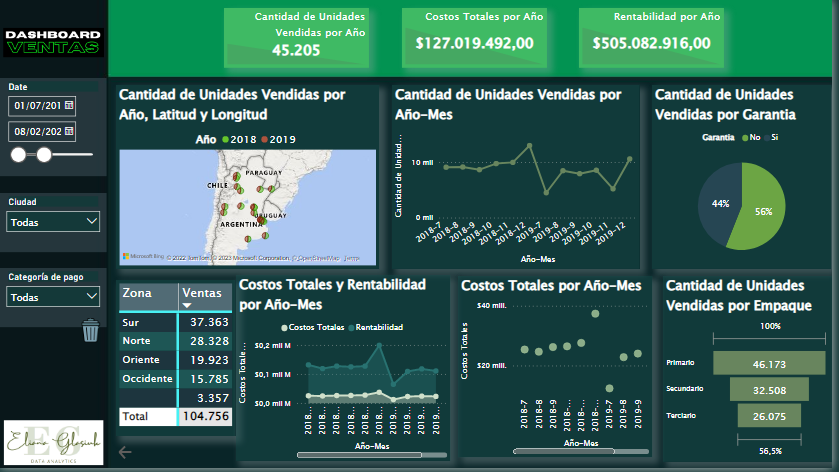

This screenshot's page, from the dashboard's own definition file:
{"tool":"powerbi","page":{"name":"Página 1","canvas":[1280,720],"ordinal":1},"visuals":[{"type":"slicer","fields":{"Values":["Territorio.Ciudad"]},"box":[0,297.1,164.3,91.4],"z":0},{"type":"slicer","fields":{"Values":["MediodePago.Categoría de pago"]},"box":[0,412.9,164.3,91.4],"z":1000},{"type":"kpi","fields":{"Indicator":["Sum(Ventas.Cantidad de Unidades Vendidas)"],"TrendLine":["Calendario.Año"]},"box":[344.4,12.8,222.5,92.1],"z":2000},{"type":"actionButton","box":[178.6,681.4,250,28.6],"z":3000},{"type":"lineChart","fields":{"Y":["Sum(Ventas.Cantidad de Unidades Vendidas)"],"Category":["Calendario.Año-Mes"]},"box":[603.8,130.4,381.3,283.5],"z":4000},{"type":"pivotTable","fields":{"Rows":["Vendedor.Zona"],"Values":["Sum(Ventas.Cantidad de Unidades Vendidas)"]},"box":[178.6,430.9,184.3,239.5],"z":5000},{"type":"kpi","fields":{"Indicator":["Sum(Ventas.Costos Totales)"],"TrendLine":["Calendario.Año"]},"box":[618,12.8,222.5,92.1],"z":6000},{"type":"kpi","fields":{"Indicator":["Sum(Ventas.Rentabilidad)"],"TrendLine":["Calendario.Año"]},"box":[891.5,12.8,222.5,92.1],"z":7000},{"type":"map","fields":{"Series":["Calendario.Año"],"Size":["Sum(Ventas.Cantidad de Unidades Vendidas)"],"Y":["Territorio.Latitud"],"X":["Territorio.Longitud"]},"box":[178.6,130.4,405.4,283.5],"z":8000},{"type":"slicer","fields":{"Values":["Calendario.Date"]},"box":[0,120,164.3,151.4],"z":9000},{"type":"pieChart","fields":{"Y":["Sum(Ventas.Cantidad de Unidades Vendidas)"],"Category":["Producto.Garantia "]},"box":[1003.5,130.4,276.4,283.5],"z":10000},{"type":"funnel","fields":{"Category":["Producto.Empaque "],"Y":["Sum(Ventas.Cantidad de Unidades Vendidas)"]},"box":[1020,424.3,260,285.7],"z":11000},{"type":"stackedAreaChart","fields":{"Category":["Calendario.Año-Mes"],"Y":["Sum(Ventas.Costos Totales)","Sum(Ventas.Rentabilidad)"]},"box":[362.8,423.8,330.2,286.3],"z":12000},{"type":"scatterChart","fields":{"X":["Calendario.Año-Mes"],"Y":["Sum(Ventas.Costos Totales)"]},"box":[704.3,424.3,298.6,278.6],"z":13000},{"type":"image","box":[0,641.4,164.3,78.6],"z":14000},{"type":"image","box":[0,0,165,130],"z":15000},{"type":"image","box":[100,484.3,78.6,47.1],"z":16000}]}

Visuals, with their boxes in screenshot pixels (x1, y1, x2, y2), scaled from the page's 1280x720 canvas onto the 839x472 screenshot:
slicer - Territorio.Ciudad: crop(0, 195, 108, 255)
slicer - MediodePago.Categoría de pago: crop(0, 271, 108, 331)
kpi - Sum(Ventas.Cantidad de Unidades Vendidas) x Calendario.Año: crop(226, 8, 372, 69)
actionButton: crop(117, 447, 281, 465)
lineChart - Sum(Ventas.Cantidad de Unidades Vendidas) x Calendario.Año-Mes: crop(396, 85, 646, 271)
pivotTable - Vendedor.Zona x Sum(Ventas.Cantidad de Unidades Vendidas): crop(117, 282, 238, 439)
kpi - Sum(Ventas.Costos Totales) x Calendario.Año: crop(405, 8, 551, 69)
kpi - Sum(Ventas.Rentabilidad) x Calendario.Año: crop(584, 8, 730, 69)
map - Calendario.Año x Sum(Ventas.Cantidad de Unidades Vendidas): crop(117, 85, 383, 271)
slicer - Calendario.Date: crop(0, 79, 108, 178)
pieChart - Sum(Ventas.Cantidad de Unidades Vendidas) x Producto.Garantia : crop(658, 85, 838, 271)
funnel - Producto.Empaque  x Sum(Ventas.Cantidad de Unidades Vendidas): crop(669, 278, 838, 465)
stackedAreaChart - Calendario.Año-Mes x Sum(Ventas.Costos Totales): crop(238, 278, 454, 466)
scatterChart - Calendario.Año-Mes x Sum(Ventas.Costos Totales): crop(462, 278, 657, 461)
image: crop(0, 420, 108, 471)
image: crop(0, 0, 108, 85)
image: crop(66, 317, 117, 348)
